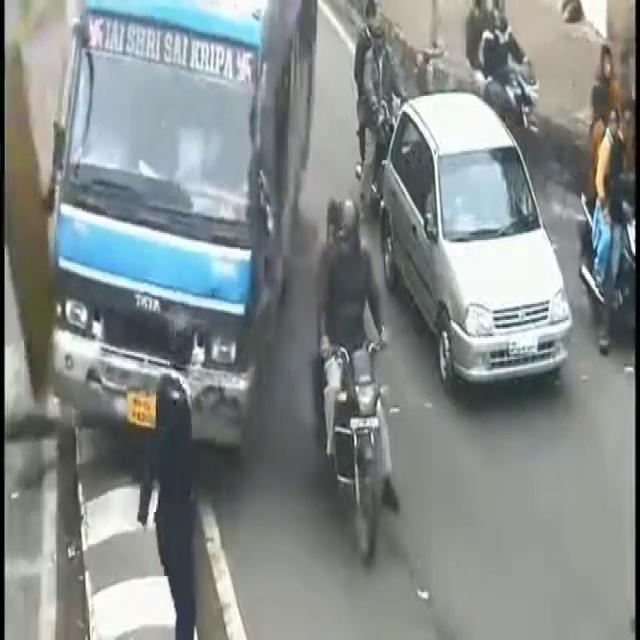accident: (36, 0, 282, 601)
